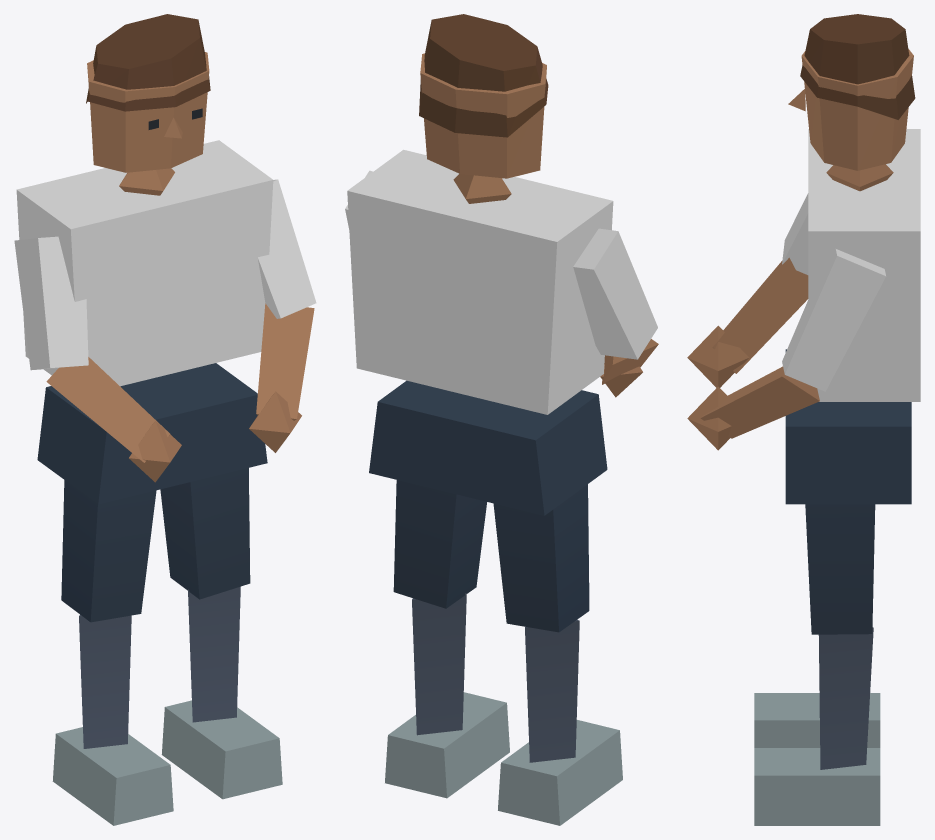
Rendered from fan-09.glb.
3 views of the same model, side by side, from view 1: azimuth 30°, elevation 25°; view 2: azimuth 150°, elevation 25°; view 3: azimuth 270°, elevation 25° (orthographic). The views are drawn at different scales.
Visible parts, largest first — view 1: fan-09; view 2: fan-09; view 3: fan-09.
Boxes of the visible parts, x1=… form: fan-09: x1=14, y1=14, x2=316, y2=825; fan-09: x1=345, y1=14, x2=658, y2=825; fan-09: x1=687, y1=14, x2=920, y2=825.
Size of the model in its own units: 0.7147 by 1.87 by 0.519.
